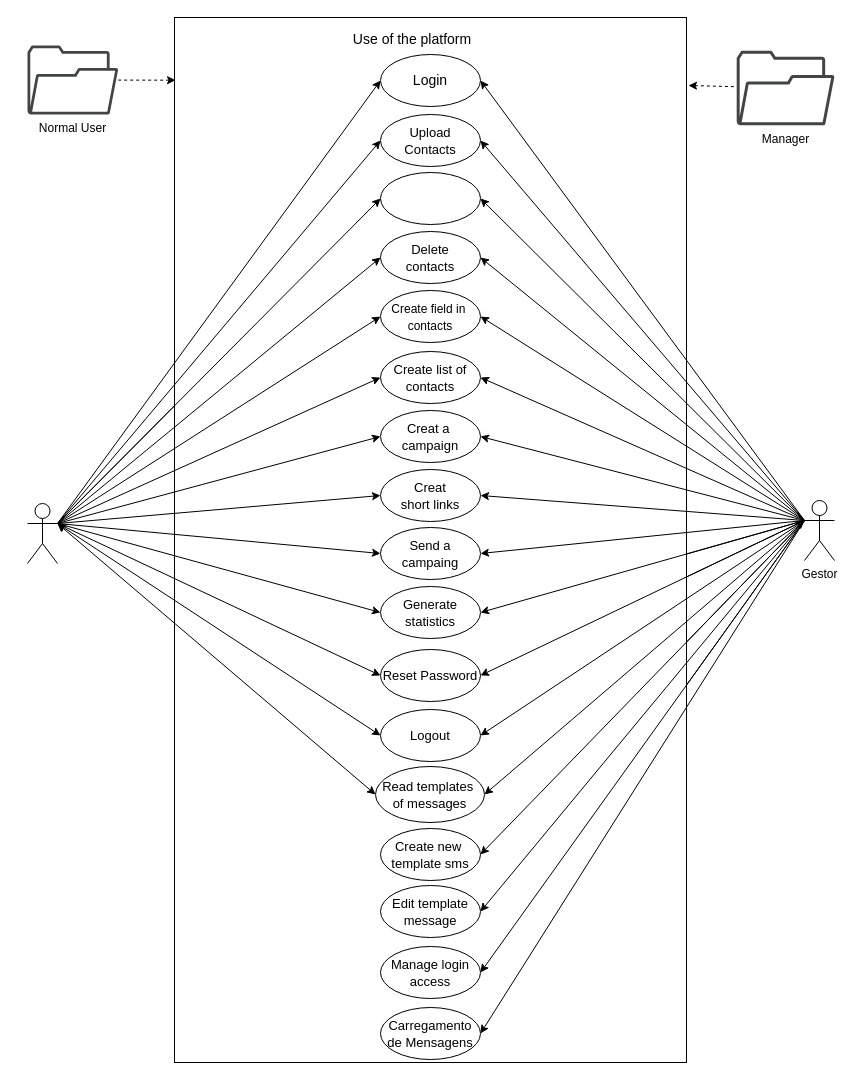
The diagram is 855 pixels wide and 1080 high, and some of its shapes have lost their labels. Here are the shapes that lost their labels. From the top down, the centre of each, then its label:
[430,198]: Edit contacts
[42,533]: Utilizador
